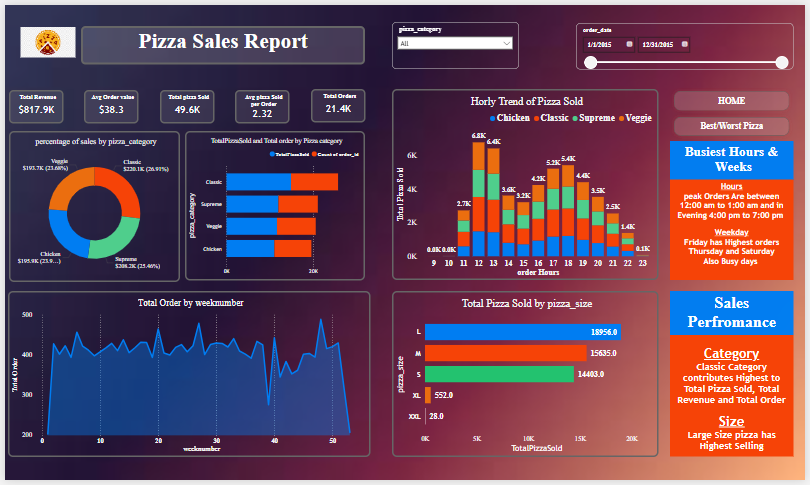

This screenshot's page, from the dashboard's own definition file:
{"tool":"powerbi","page":{"name":"Home","canvas":[1600,950],"ordinal":0},"visuals":[{"type":"textbox","box":[151.7,41.7,568.3,76.7],"z":0},{"type":"image","box":[25,29,120,89],"z":1000},{"type":"slicer","title":"Order date","fields":{"Values":["pizza_sales.order_date"]},"box":[1141.7,36.7,435,93.3],"z":2000},{"type":"slicer","fields":{"Values":["pizza_sales.pizza_category"]},"box":[774,34,254,94],"z":3000},{"type":"card","title":"Total Revenue","fields":{"Values":["pizza_sales.TotalRevenue"]},"box":[8,169,109,67],"z":4000},{"type":"card","title":"Avg Order value","fields":{"Values":["pizza_sales.Avgordervalue"]},"box":[158.8,169,109,67],"z":5000},{"type":"card","title":"Total pizza Sold ","fields":{"Values":["pizza_sales.TotalPizzaSold"]},"box":[309.6,169,109,67],"z":6000},{"type":"card","title":"Total Orders","fields":{"Values":["pizza_sales.Total Order"]},"box":[611.1,168.9,108.9,66.7],"z":7000},{"type":"card","title":"Avg pizza Sold per Order","fields":{"Values":["pizza_sales.Avreage order per pizza"]},"box":[460.3,169,109,67],"z":8000},{"type":"columnChart","title":"Horly Trend of Pizza Sold","fields":{"Y":["pizza_sales.TotalPizzaSold"],"Category":["measure table.order Hours"],"Series":["pizza_sales.pizza_category"]},"box":[773.3,168.9,533.3,382.2],"z":9000},{"type":"areaChart","fields":{"Y":["pizza_sales.Total Order"],"Category":["pizza_sales.weeknumber"]},"box":[5,571.7,725,331.7],"z":10000},{"type":"donutChart","title":"percentage of sales by pizza_category","fields":{"Y":["pizza_sales.TotalRevenue"],"Category":["pizza_sales.pizza_category"]},"box":[8.3,251.7,341.7,301.7],"z":11000},{"type":"clusteredBarChart","title":"Total Pizza Sold by pizza_size","fields":{"Category":["pizza_sales.pizza_size"],"Y":["pizza_sales.TotalPizzaSold"]},"box":[773.3,571.7,533.3,331.7],"z":12000},{"type":"barChart","title":"TotalPizzaSold and Total order by Pizza category","fields":{"Category":["pizza_sales.pizza_category"],"Y":["pizza_sales.TotalPizzaSold","Count(pizza_sales.order_id)"]},"box":[360,252.2,360,298.9],"z":13000},{"type":"actionButton","box":[1330,163.3,246.7,55],"z":14000},{"type":"actionButton","box":[1330,216.7,246.7,53.3],"z":15000},{"type":"textbox","box":[1330,348.3,246.7,201.7],"z":16000},{"type":"textbox","box":[1330,571.7,246.7,88.3],"z":17000},{"type":"textbox","box":[1330,660,246.7,243.3],"z":18000},{"type":"textbox","box":[1330,271.7,246.7,76.7],"z":19000}]}

Visuals, with their boxes in screenshot pixels (x1, y1, x2, y2), scaled from the page's 1600x950 canvas onto the 810x485 screenshot:
textbox: box=[77, 21, 364, 60]
image: box=[13, 15, 73, 60]
"Order date" slicer: box=[578, 19, 798, 66]
slicer - pizza_sales.pizza_category: box=[392, 17, 520, 65]
"Total Revenue" card: box=[4, 86, 59, 120]
"Avg Order value" card: box=[80, 86, 136, 120]
"Total pizza Sold " card: box=[157, 86, 212, 120]
"Total Orders" card: box=[309, 86, 364, 120]
"Avg pizza Sold per Order" card: box=[233, 86, 288, 120]
"Horly Trend of Pizza Sold" columnChart: box=[391, 86, 661, 281]
areaChart - pizza_sales.Total Order x pizza_sales.weeknumber: box=[3, 292, 370, 461]
"percentage of sales by pizza_category" donutChart: box=[4, 128, 177, 283]
"Total Pizza Sold by pizza_size" clusteredBarChart: box=[391, 292, 661, 461]
"TotalPizzaSold and Total order by Pizza category" barChart: box=[182, 129, 364, 281]
actionButton: box=[673, 83, 798, 111]
actionButton: box=[673, 111, 798, 138]
textbox: box=[673, 178, 798, 281]
textbox: box=[673, 292, 798, 337]
textbox: box=[673, 337, 798, 461]
textbox: box=[673, 139, 798, 178]
